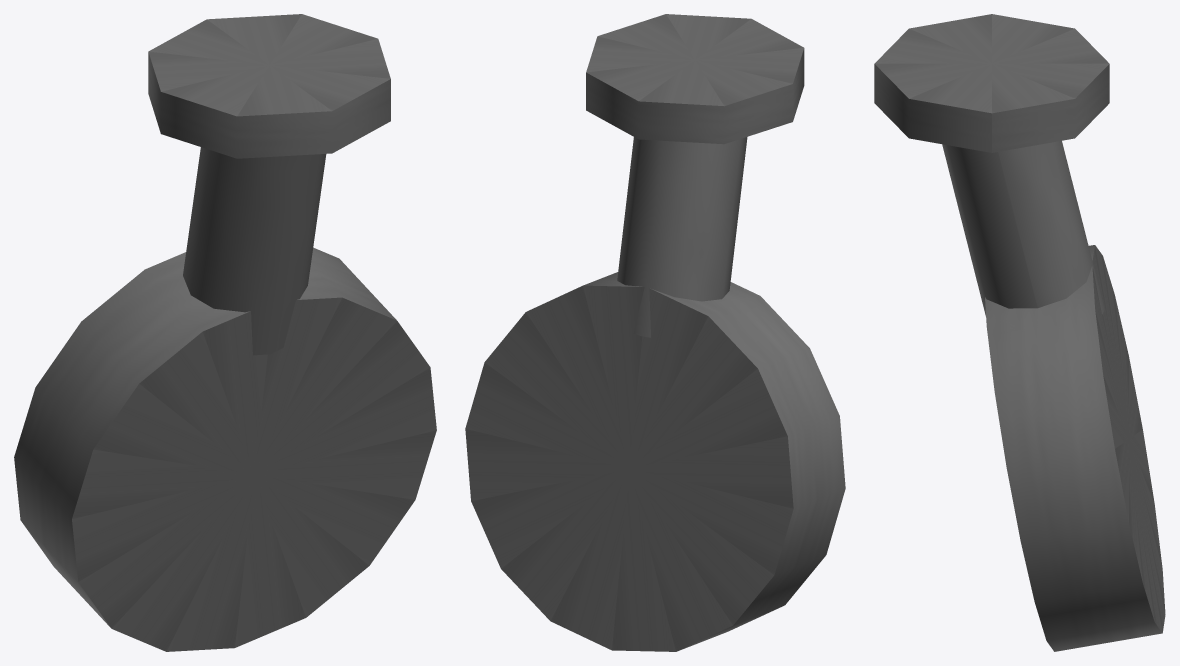
File: mastarmcurve_5x1_c3_up.obj
3 views of the same model, side by side, from view 1: azimuth 30°, elevation 25°; view 2: azimuth 150°, elevation 25°; view 3: azimuth 270°, elevation 25° (orthographic). The views are drawn at different scales.
Visible parts, largest first — view 1: mastarm_5x1_c3_up; view 2: mastarm_5x1_c3_up; view 3: mastarm_5x1_c3_up.
Part boxes in pixels (x1=…): mastarm_5x1_c3_up: x1=14, y1=14, x2=436, y2=651; mastarm_5x1_c3_up: x1=465, y1=14, x2=845, y2=651; mastarm_5x1_c3_up: x1=874, y1=14, x2=1165, y2=651.
Bounding box in the file's own units: 0.6715 × 1.07 × 0.495.
